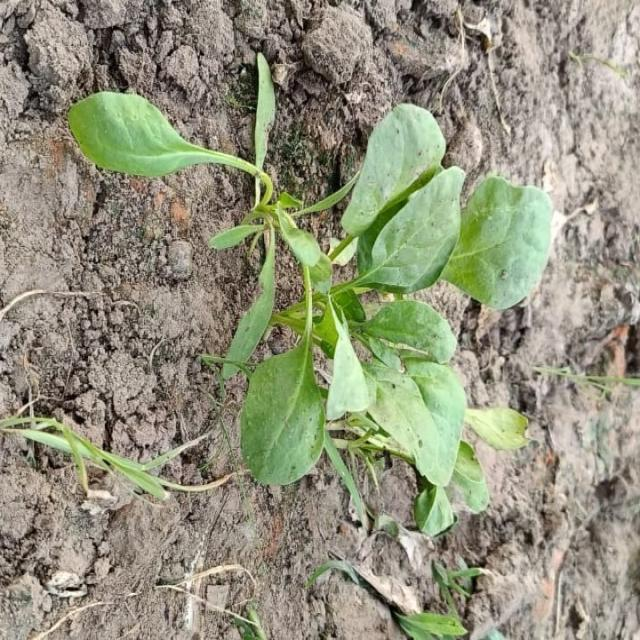plant: (68, 52, 553, 538)
